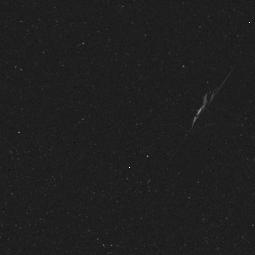soho: (175, 60, 244, 163)
